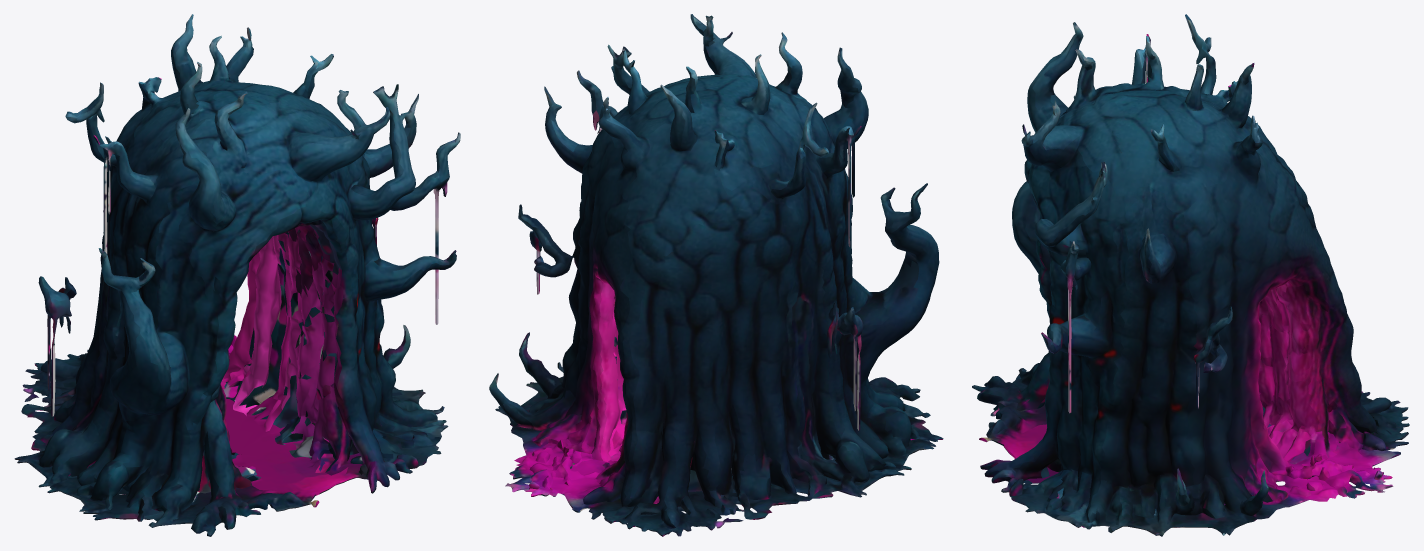
The model's file is tunnel-root-1-generated-2026-05-17T19-19-26-961Z.high.glb.
3 renders of one model, left to right at view 1: azimuth 30°, elevation 25°; view 2: azimuth 150°, elevation 25°; view 3: azimuth 270°, elevation 25°, orthographic. The views are drawn at different scales.
Parts seen in each view (by area): view 1: temp_mesh.ply; view 2: temp_mesh.ply; view 3: temp_mesh.ply.
Part boxes in pixels (x1,y1,x2,y2): temp_mesh.ply: (14, 14, 460, 536); temp_mesh.ply: (489, 14, 943, 536); temp_mesh.ply: (972, 14, 1409, 536).
Size of the model in its own units: 1.95 by 1.9 by 1.93.
1 material, 1 textured.
